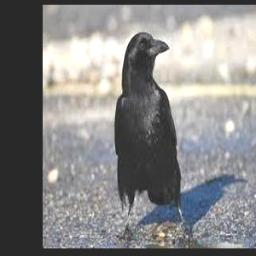Crow: (115, 31, 187, 240)
